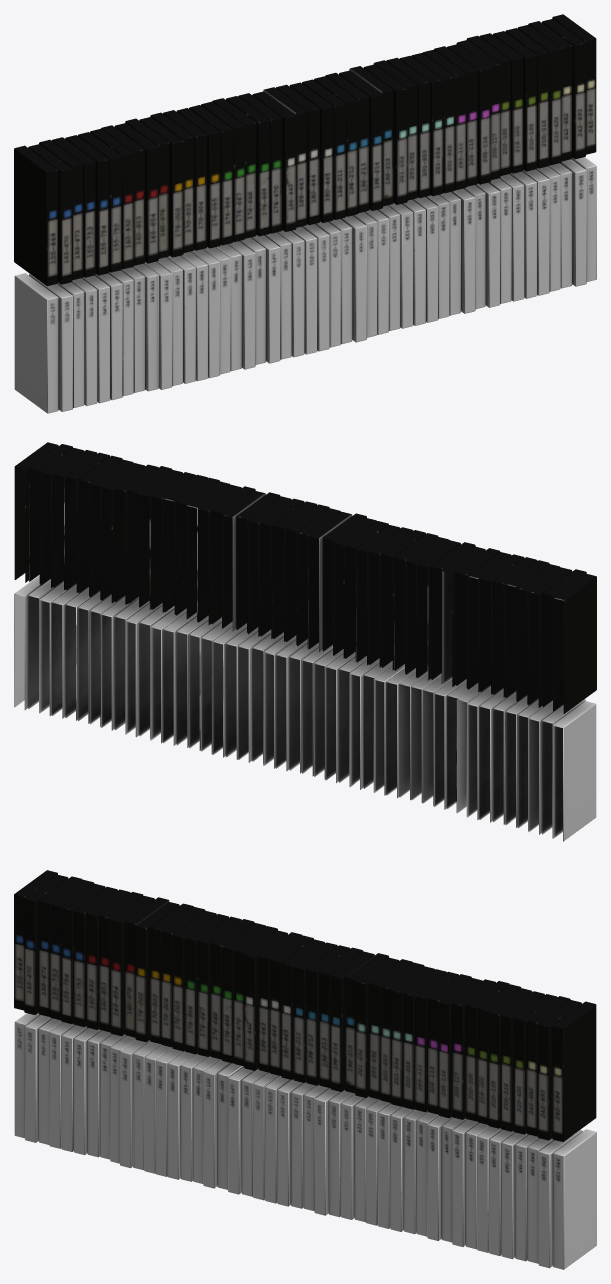
File: video_store_vhs_02.obj
3 views of the same model, one above another, from view 1: azimuth 30°, elevation 25°; view 2: azimuth 150°, elevation 25°; view 3: azimuth 330°, elevation 25° (orthographic).
Visible parts, largest first — view 1: Mesh19_Group21_Group2_Group1_Model; view 2: Mesh19_Group21_Group2_Group1_Model; view 3: Mesh19_Group21_Group2_Group1_Model.
Part boxes in pixels (<box>): Mesh19_Group21_Group2_Group1_Model: <box>14,14,596,413</box>; Mesh19_Group21_Group2_Group1_Model: <box>14,442,596,841</box>; Mesh19_Group21_Group2_Group1_Model: <box>14,870,596,1269</box>.
Size of the model in its own units: 0.9574 by 0.402 by 0.1125.
Materials: 1 (1 with a texture image).
